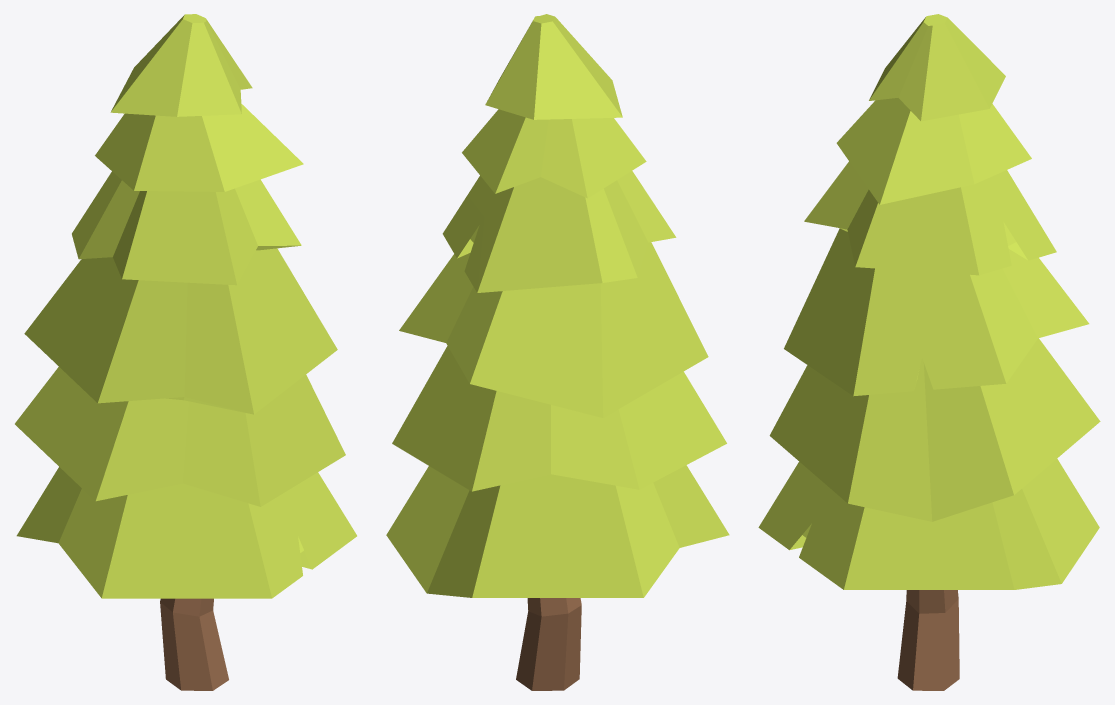
Rendered from tree3.fbx.
The picture shows the model from 3 angles, left to right: view 1: azimuth 30°, elevation 25°; view 2: azimuth 150°, elevation 25°; view 3: azimuth 270°, elevation 25°; orthographic projection.
Parts seen in each view (by area): view 1: tree3; view 2: tree3; view 3: tree3.
Part boxes in pixels (<box>): tree3: <box>15,14,356,690</box>; tree3: <box>386,14,729,690</box>; tree3: <box>758,14,1100,690</box>.
Size of the model in its own units: 359 by 878 by 412.
